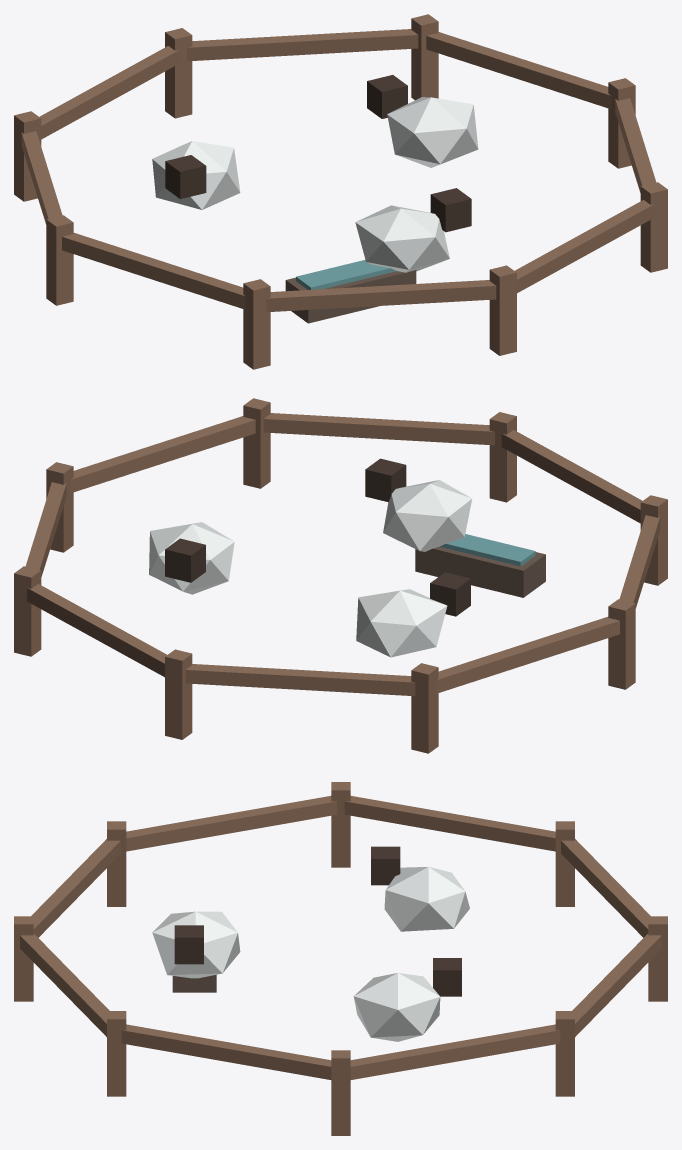
Rendered from pasture.glb.
The picture shows the model from 3 angles, top to bottom: view 1: azimuth 30°, elevation 25°; view 2: azimuth 150°, elevation 25°; view 3: azimuth 270°, elevation 25°; orthographic projection. The views are drawn at different scales.
Parts seen in each view (by area): view 1: sheep0, sheep2, rail1, rail5, rail0, rail4, rail2, rail6, sheep1, post5, post6, post4 (+12 smaller); view 2: sheep1, sheep2, rail6, rail2, rail7, rail3, detail_trough, sheep0, rail5, rail1, post3, post2 (+12 smaller); view 3: sheep0, sheep1, rail3, rail4, rail0, rail7, sheep2, rail1, rail2, rail5, rail6, post0 (+11 smaller).
Boxes of the visible parts, x1,y1,x2,y2 form: sheep0: (387, 97, 478, 167); sheep2: (355, 205, 449, 272); rail1: (187, 29, 418, 61); rail5: (266, 280, 496, 312); rail0: (426, 32, 611, 108); rail4: (62, 233, 245, 309); rail2: (39, 46, 180, 139); rail6: (515, 200, 654, 293); sheep1: (152, 141, 240, 209); post5: (243, 279, 270, 369); post6: (489, 265, 516, 355); post4: (46, 215, 73, 305); sheep1: (356, 589, 447, 657); sheep2: (383, 480, 472, 551); rail6: (263, 413, 494, 445); rail2: (185, 664, 415, 696); rail7: (70, 416, 255, 492); rail3: (436, 617, 619, 693); detail_trough: (415, 546, 545, 597); sheep0: (149, 522, 234, 594); rail5: (501, 430, 642, 523); rail1: (27, 584, 166, 677); post3: (411, 663, 438, 753); post2: (165, 649, 192, 739); sheep0: (353, 973, 440, 1041); sheep1: (384, 867, 469, 931); rail3: (344, 796, 555, 851); rail4: (126, 796, 337, 851); rail0: (350, 1024, 560, 1079); rail7: (121, 1024, 331, 1079); sheep2: (152, 911, 240, 978); rail1: (572, 933, 661, 1036); rail2: (561, 839, 650, 937); rail5: (31, 839, 120, 937); rail6: (20, 933, 109, 1036); post0: (331, 1050, 350, 1135).
Bounding box in the file's own units: 2.68 × 0.3702 × 2.68.
